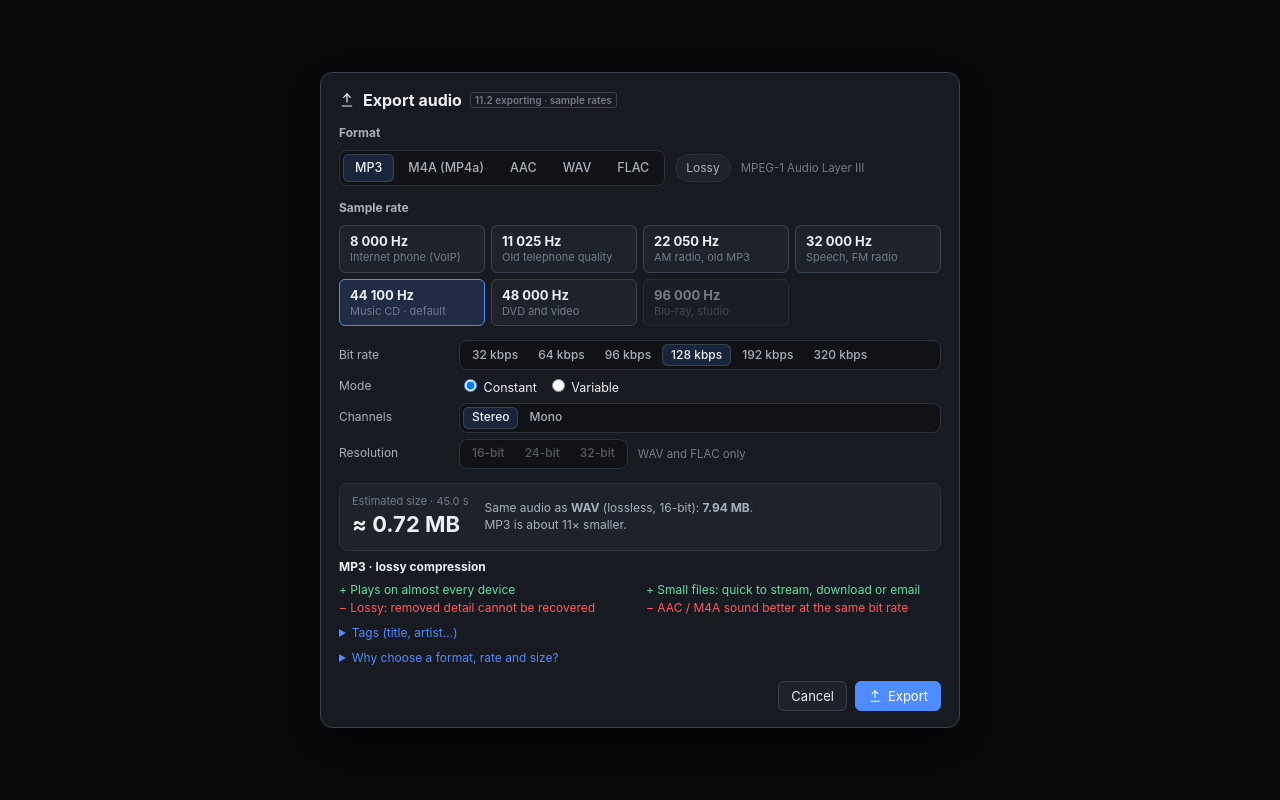
Test: audio export dialog › A16 MP3 cannot be 96 kHz; WAV can, and has 16 / 24 / 32-bit instead of a bit rate
Expected: the button "96 000 Hz Blu-ray, studio" is disabled, [643,279,789,326]
Expected: the button "24-bit" is disabled, [516,443,569,465]
Click the button "WAV" at (577, 168), box [551,154,603,182]
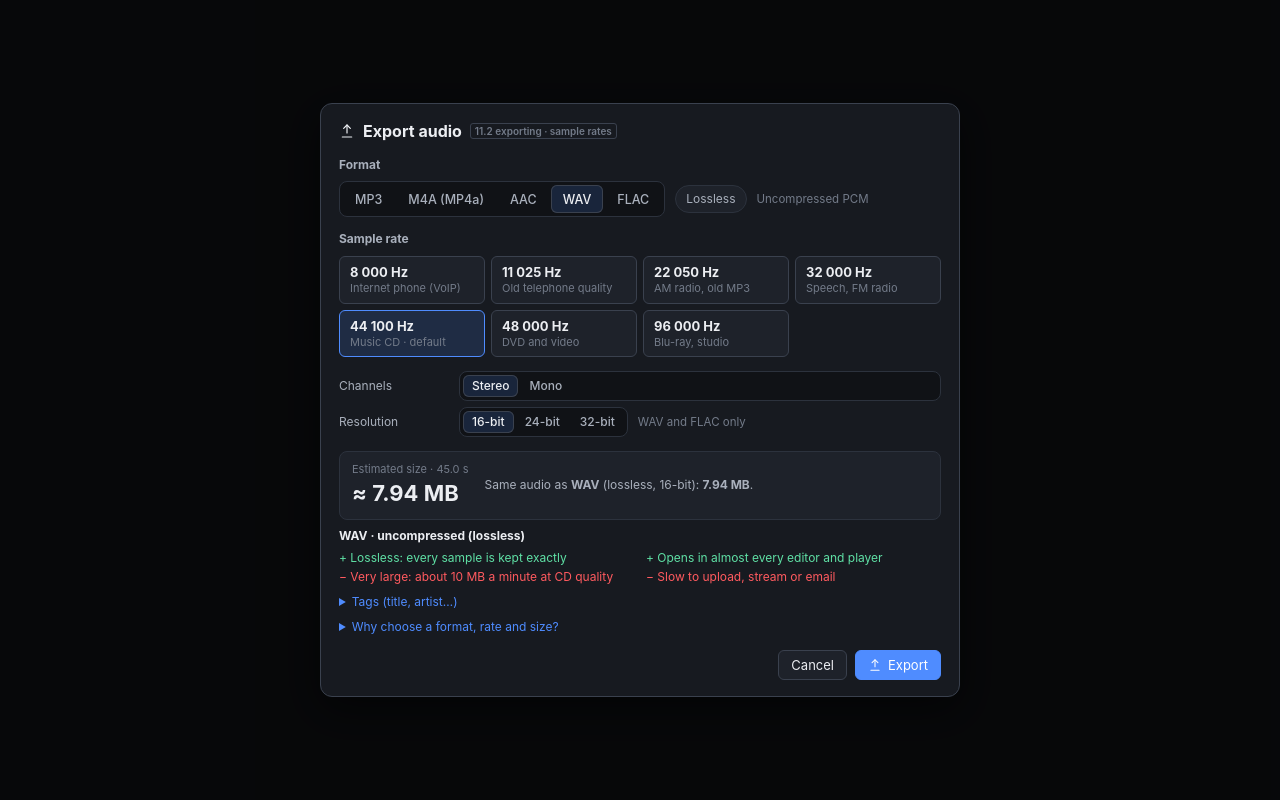
Now the button "96 000 Hz Blu-ray, studio" is enabled, box [643,310,789,357]
Now the text "Bit rate" is gone
Click the button "24-bit" at (542, 422), box [516,411,569,433]
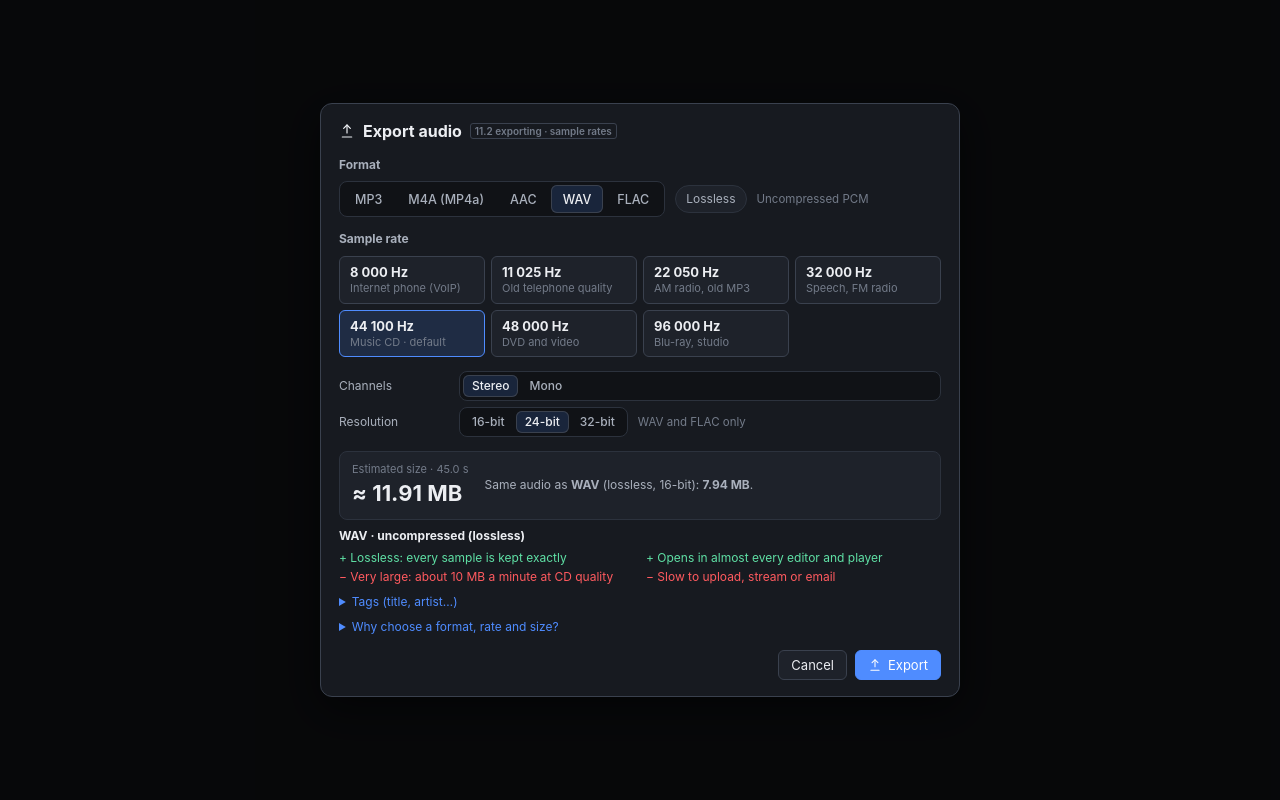
Click the button "48 000 Hz DVD and video" at (564, 334), box [491,310,637,357]
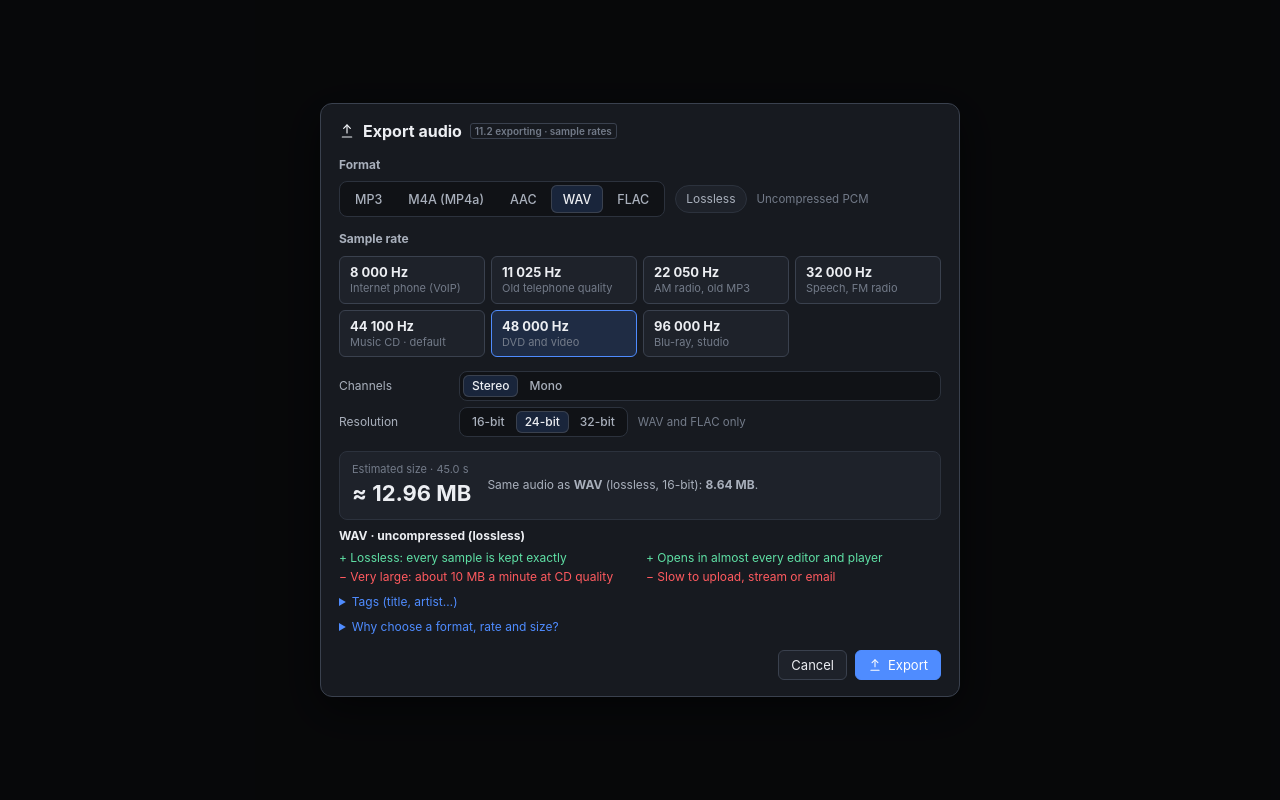
Now the text "Lossless" is shown, box [675,185,746,213]
Now the text named "Estimated file size" reads "≈ 12.96 MB", box [352,480,471,506]
